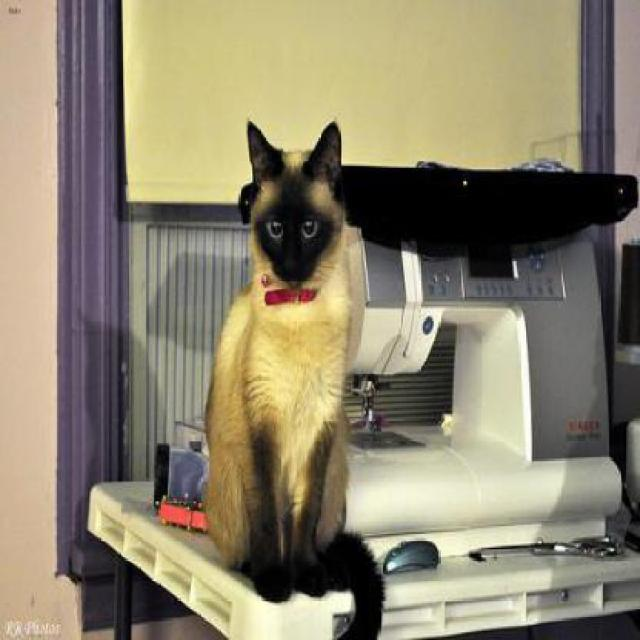cat: (208, 119, 387, 638)
